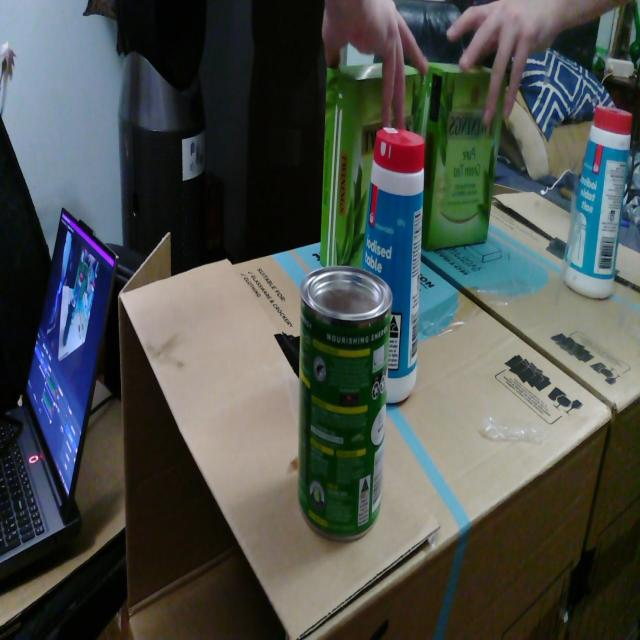nestle_milo_tin: (298, 266, 392, 541)
twinings_greentea_box: (320, 63, 384, 268), (404, 65, 427, 136)
woolworths_salt_bottle: (362, 127, 425, 403)
